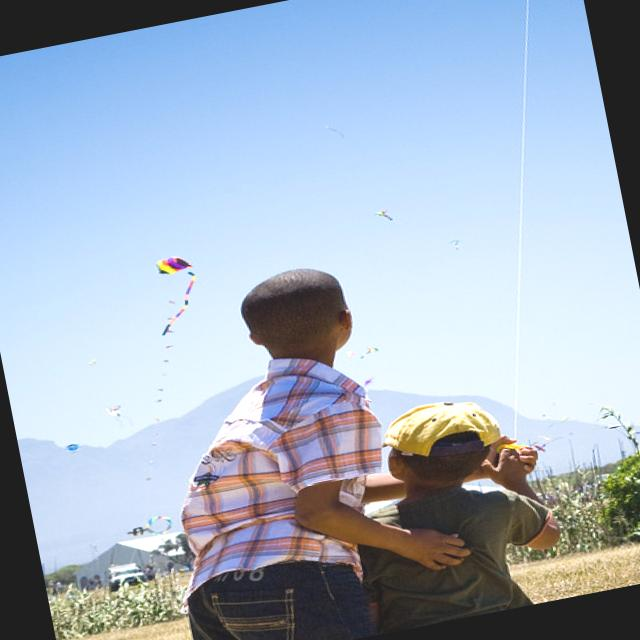Vehicle: (103, 558, 148, 592)
